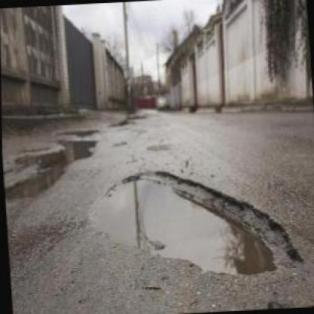Hueco: (85, 160, 302, 285)
